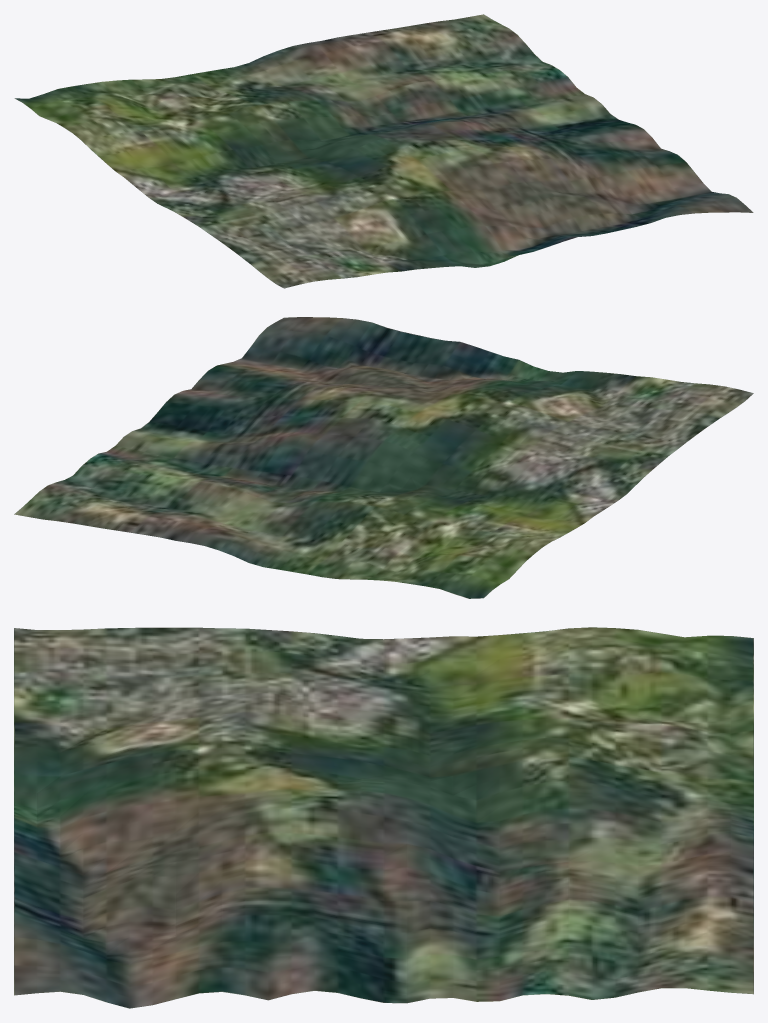
3 renders of one model, top to bottom at view 1: azimuth 30°, elevation 25°; view 2: azimuth 150°, elevation 25°; view 3: azimuth 270°, elevation 25°, orthographic. The views are drawn at different scales.
Size of the model in its own units: 1950 by 195 by 1942.
Materials: 1 (1 with a texture image).
